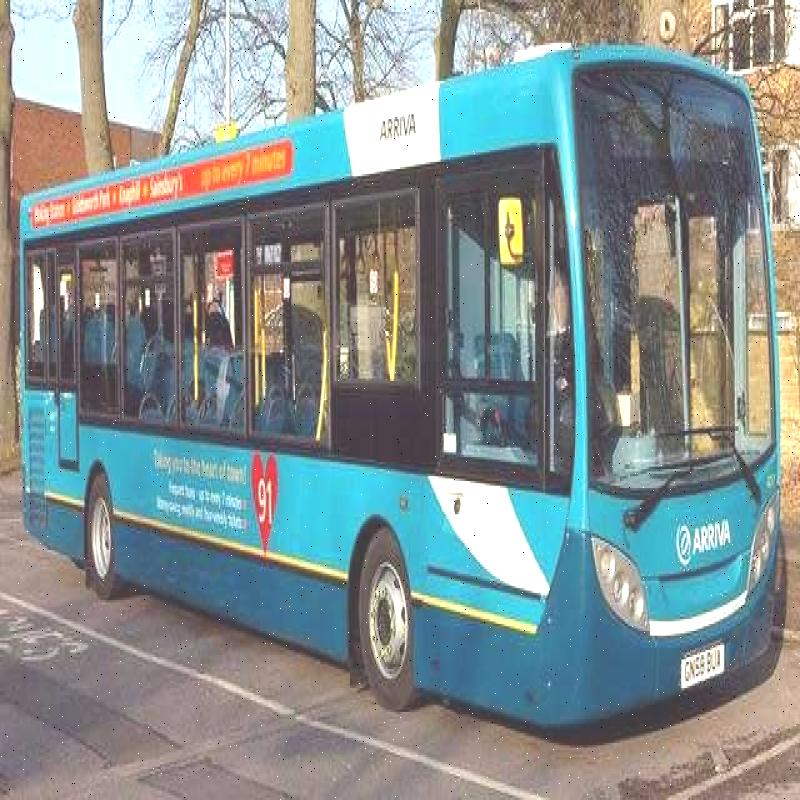bus: (13, 36, 798, 725)
